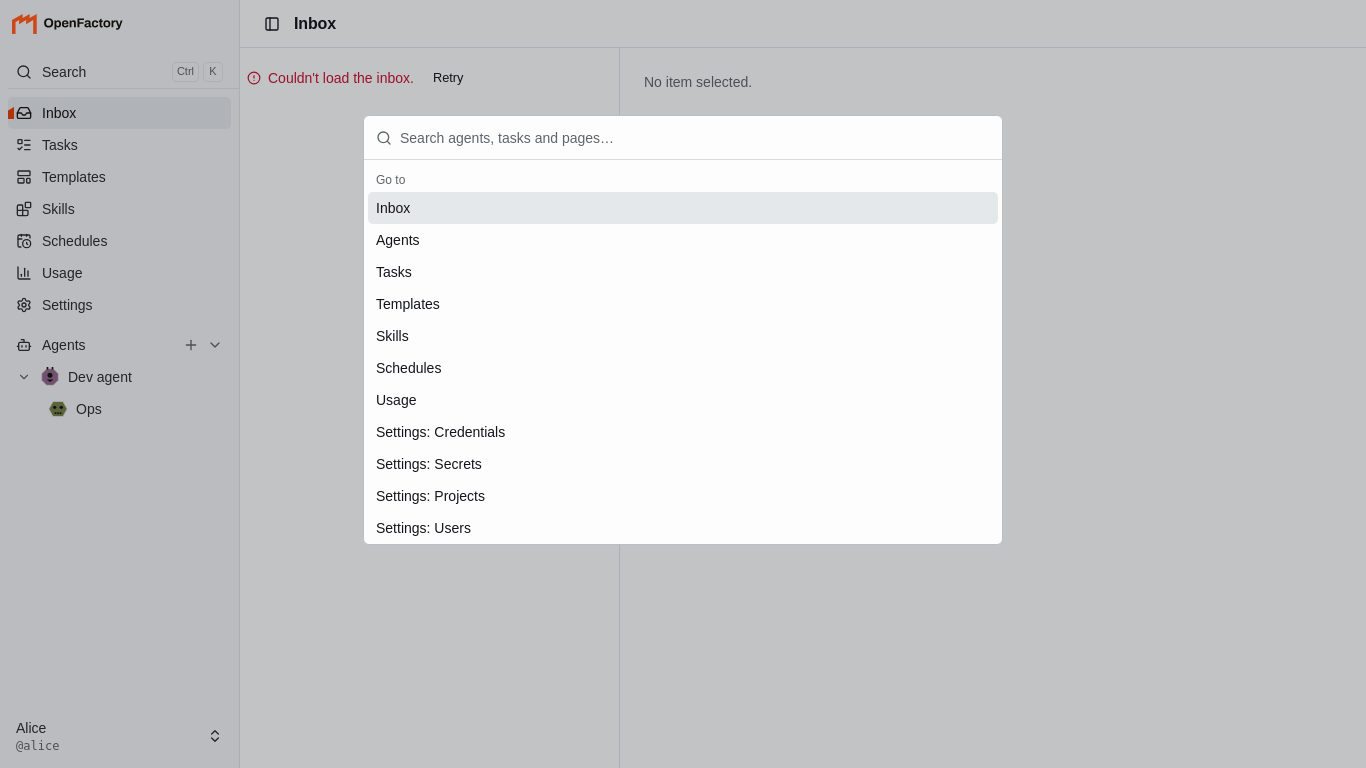
Test: 'T-42' shows 'Open T-42' first at once; Enter navigates; title fills in without moving the highlight
Earlier steps of the test are not shown.
Later steps or results of the test are not shown.
Type " T-42 " into the dropdown at (695, 138), box [400,116,990,159]
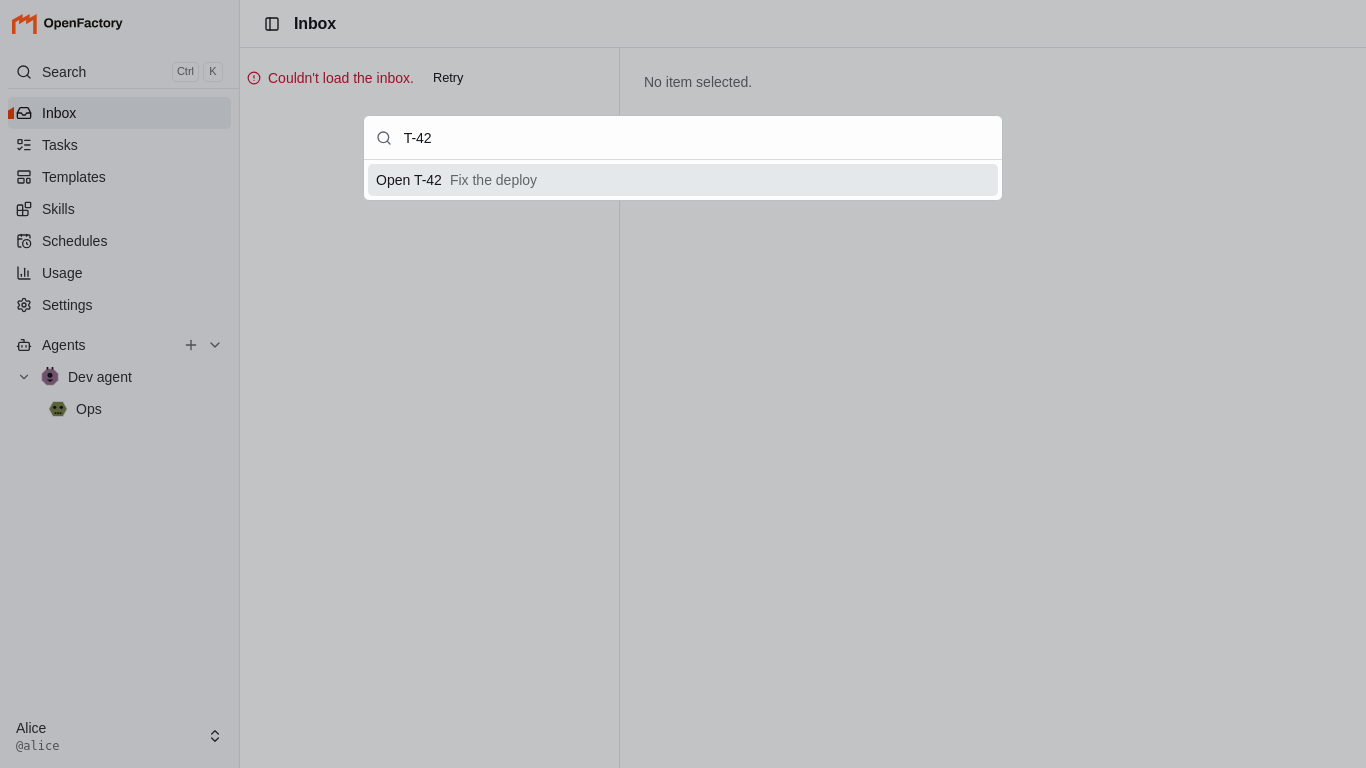
Expected: the text "Fix the deploy" is shown, [450,170,537,190]
Expected: the option shows "Open T-42", [368,164,998,196]
